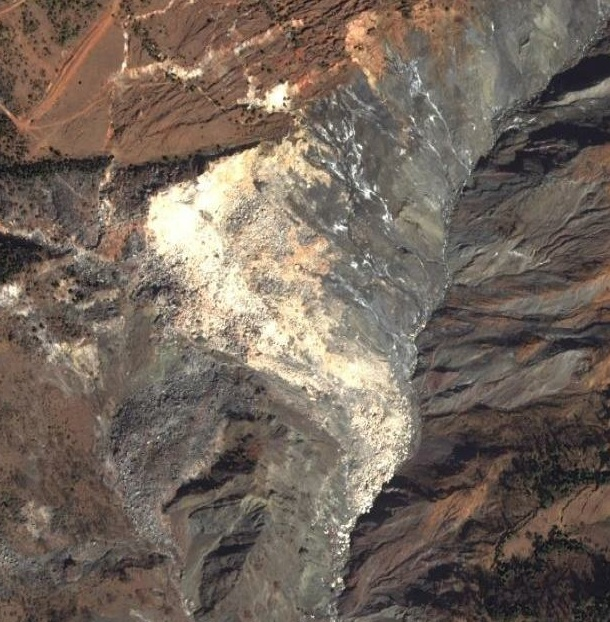slope: (146, 129, 409, 532), (345, 8, 426, 102), (236, 71, 302, 119)
